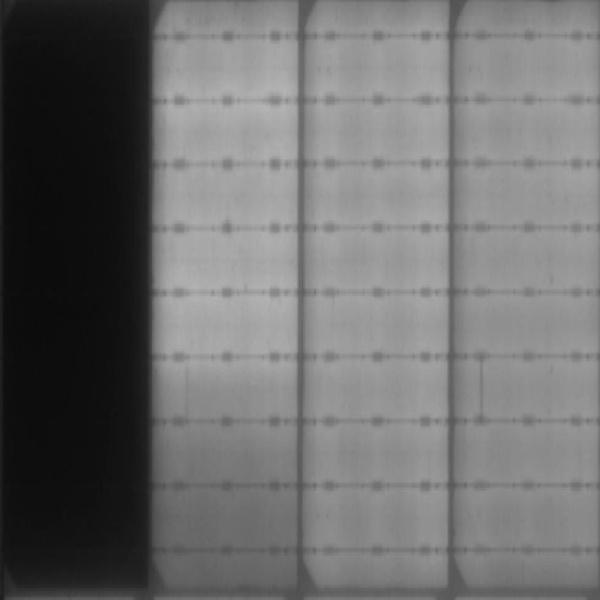no_electricity: (1, 4, 152, 591)
scratch: (473, 363, 496, 416)
